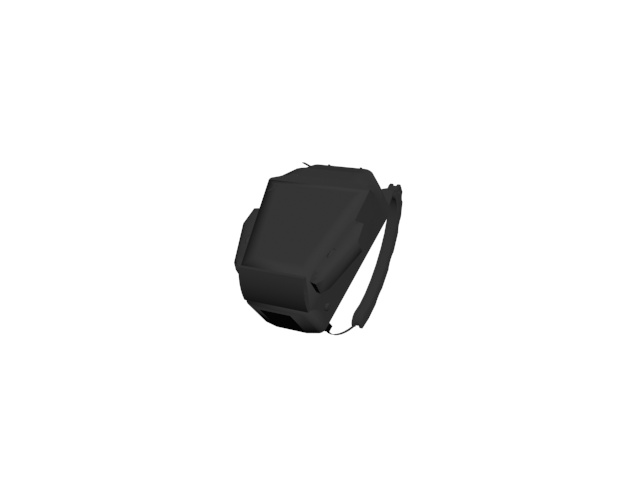back_pack: (233, 161, 408, 336)
